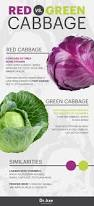cabbage: (1, 91, 51, 156), (46, 35, 94, 90)
